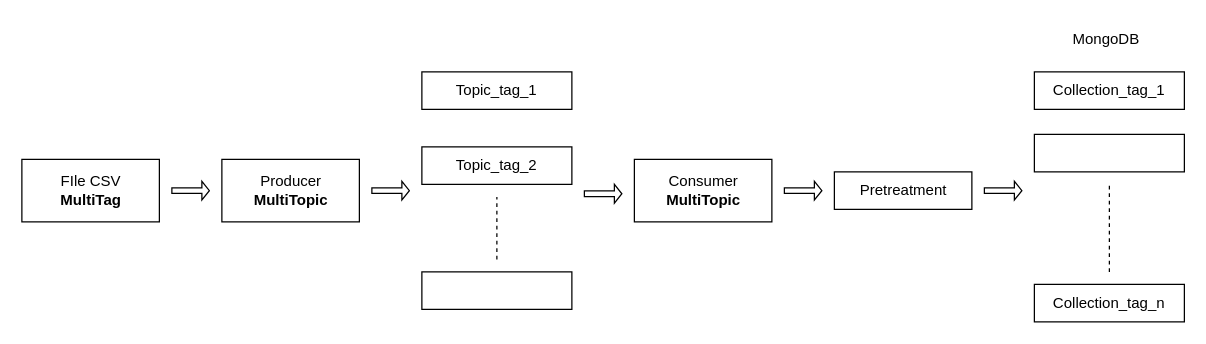
This 1206x344 diagram has some shape labels left out. The box of each missing label's shape, as (x1, y1, x2, y2) in pixels:
Collection_tag_2: (1033, 133, 1184, 172)
Topic_tag_n: (421, 271, 572, 309)
